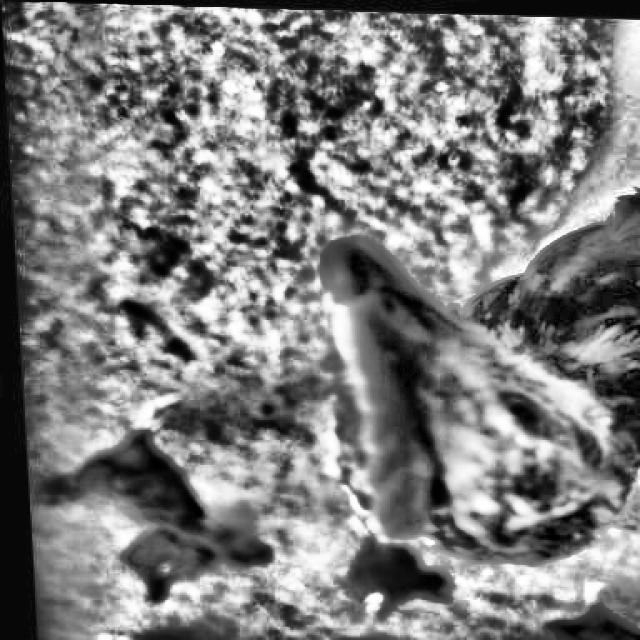Healthy: (494, 380, 568, 452)
